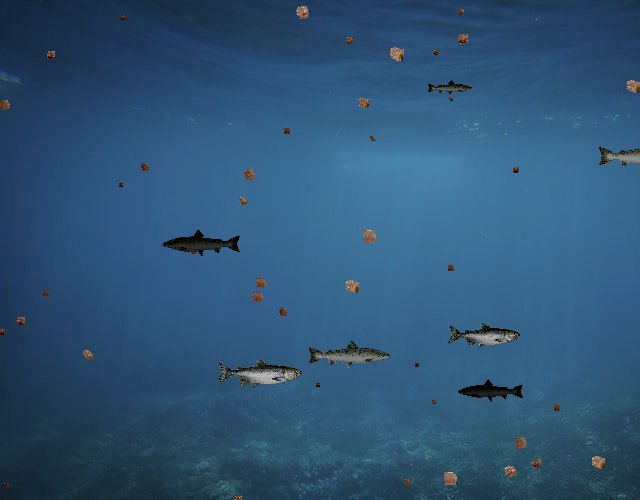Fish: (306, 339, 392, 370), (216, 358, 302, 389), (162, 228, 243, 257), (447, 322, 520, 349), (458, 378, 526, 402), (427, 79, 474, 96)
Pellet: (508, 430, 534, 456), (498, 459, 523, 484), (76, 344, 98, 366), (508, 163, 522, 177), (430, 46, 443, 59), (117, 11, 129, 23)
